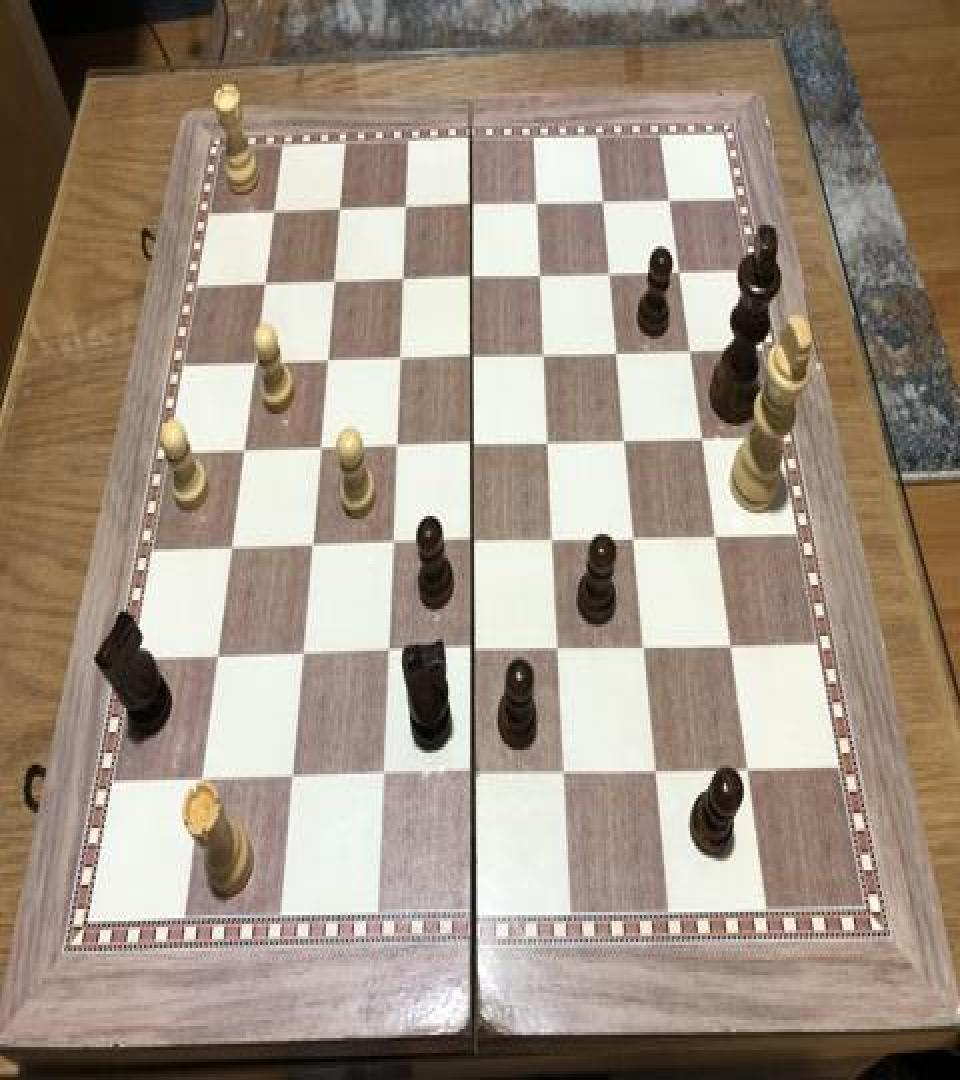xcorner: (621, 520, 645, 557), (544, 631, 568, 668), (202, 637, 226, 674), (643, 754, 667, 791), (550, 754, 574, 791), (657, 182, 681, 218), (590, 183, 614, 219), (523, 186, 547, 222), (457, 189, 481, 225), (391, 190, 415, 226), (325, 194, 349, 230), (260, 195, 284, 231), (667, 254, 691, 290), (597, 255, 621, 291), (527, 258, 551, 294), (388, 262, 412, 298), (319, 264, 343, 300), (251, 267, 275, 303), (678, 333, 702, 369), (604, 334, 628, 370), (530, 336, 554, 372), (457, 339, 481, 375), (384, 340, 408, 376), (240, 345, 264, 381), (690, 420, 714, 456), (612, 423, 636, 459), (535, 424, 559, 460), (457, 426, 481, 462), (381, 428, 405, 464), (229, 432, 253, 468), (704, 519, 728, 555), (539, 522, 563, 558), (458, 524, 482, 560), (377, 525, 401, 561), (296, 526, 320, 562), (216, 528, 240, 564), (719, 628, 743, 664), (632, 630, 656, 666), (458, 633, 482, 669), (372, 634, 396, 670), (287, 636, 311, 672), (737, 753, 761, 789), (458, 756, 482, 792), (367, 758, 391, 794), (276, 758, 300, 794), (186, 759, 210, 795), (457, 260, 481, 295), (312, 344, 336, 379), (305, 431, 329, 466)
